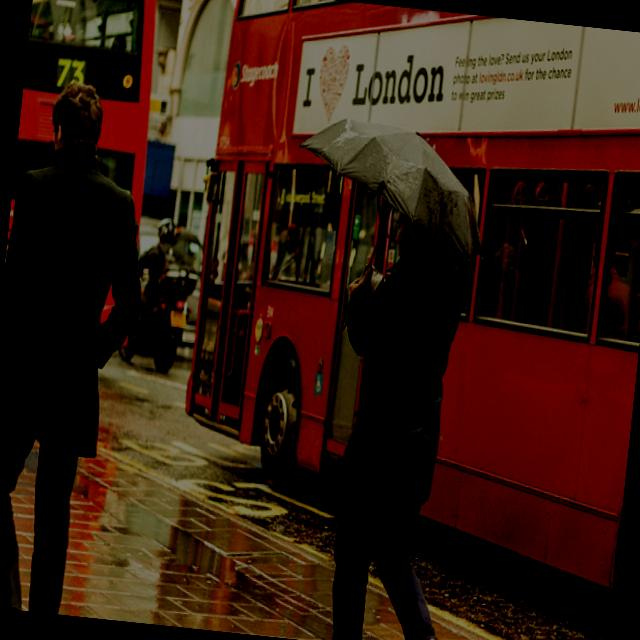Vehicle: (192, 16, 640, 630), (7, 0, 169, 248), (120, 260, 199, 376), (166, 236, 206, 344)
